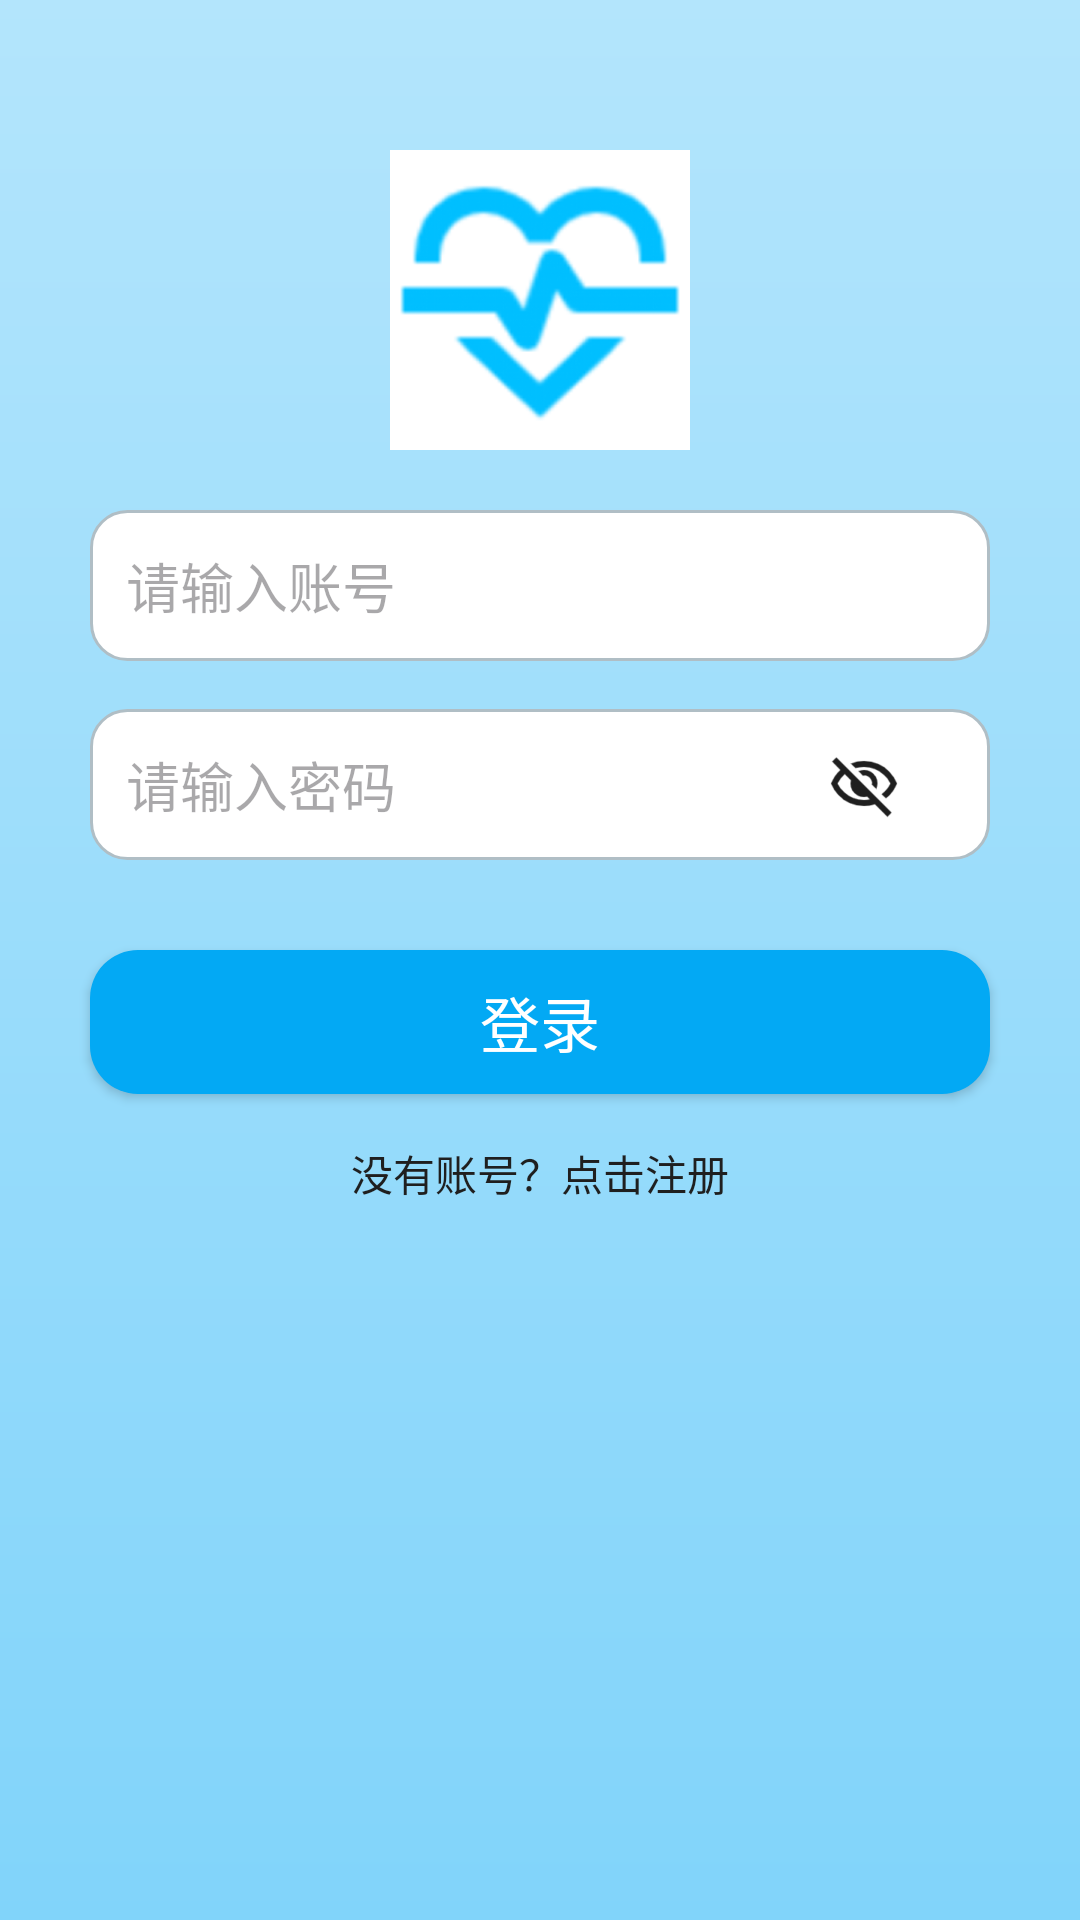

Where icons sit on this 1080px×1920px app screen, as (x1, y1, x2, y2):
hide password: (831, 757, 897, 817)
